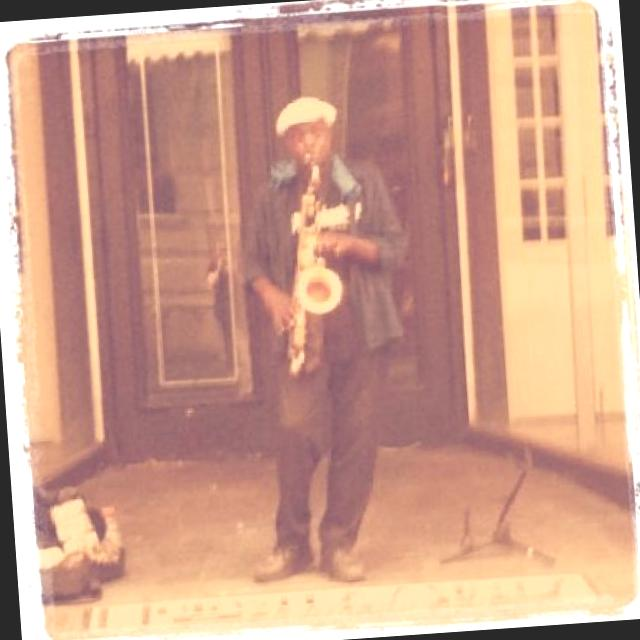Person: (218, 86, 451, 596)
